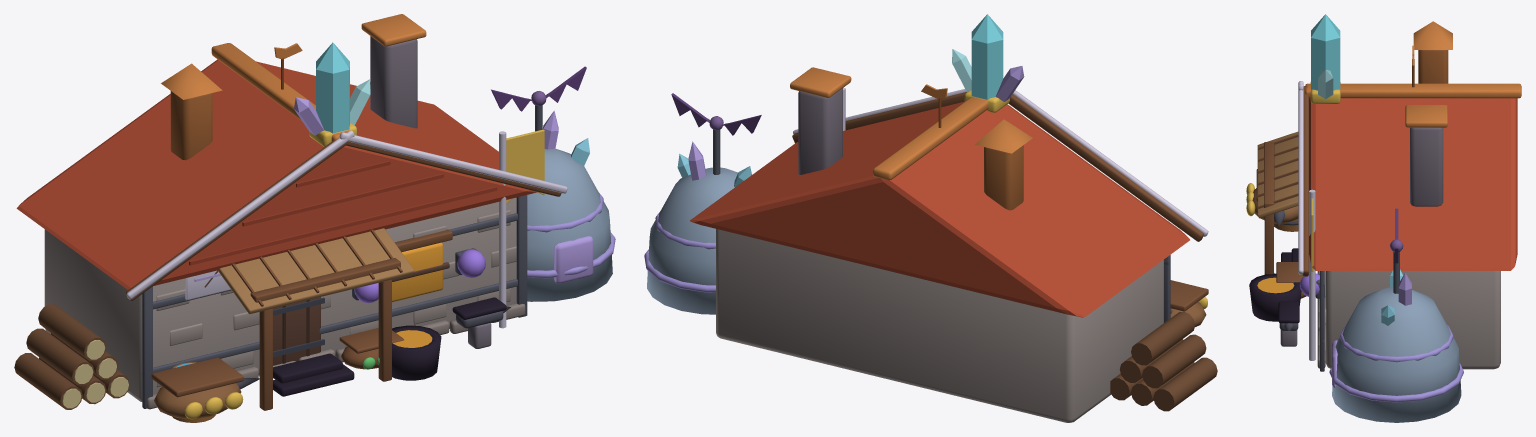
Rendered from forge5.glb.
3 views of the same model, side by side, from view 1: azimuth 30°, elevation 25°; view 2: azimuth 150°, elevation 25°; view 3: azimuth 270°, elevation 25° (orthographic). The views are drawn at different scales.
Visible parts, largest first — view 1: base, glim-gable, obsidian, king-crystal; view 2: base, king-crystal, glim-gable; view 3: base, king-crystal, obsidian, glim-gable.
Boxes of the visible parts, <box> form: base: <box>14,14,615,422</box>; glim-gable: <box>126,129,567,328</box>; obsidian: <box>273,297,506,396</box>; king-crystal: <box>294,42,370,146</box>; base: <box>644,67,1217,422</box>; king-crystal: <box>952,14,1024,112</box>; glim-gable: <box>793,87,1208,236</box>; base: <box>1246,21,1521,422</box>; king-crystal: <box>1310,14,1340,103</box>; obsidian: <box>1249,248,1301,323</box>; glim-gable: <box>1298,81,1315,360</box>.
Size of the model in its own units: 8.65 by 4.61 by 4.14.
